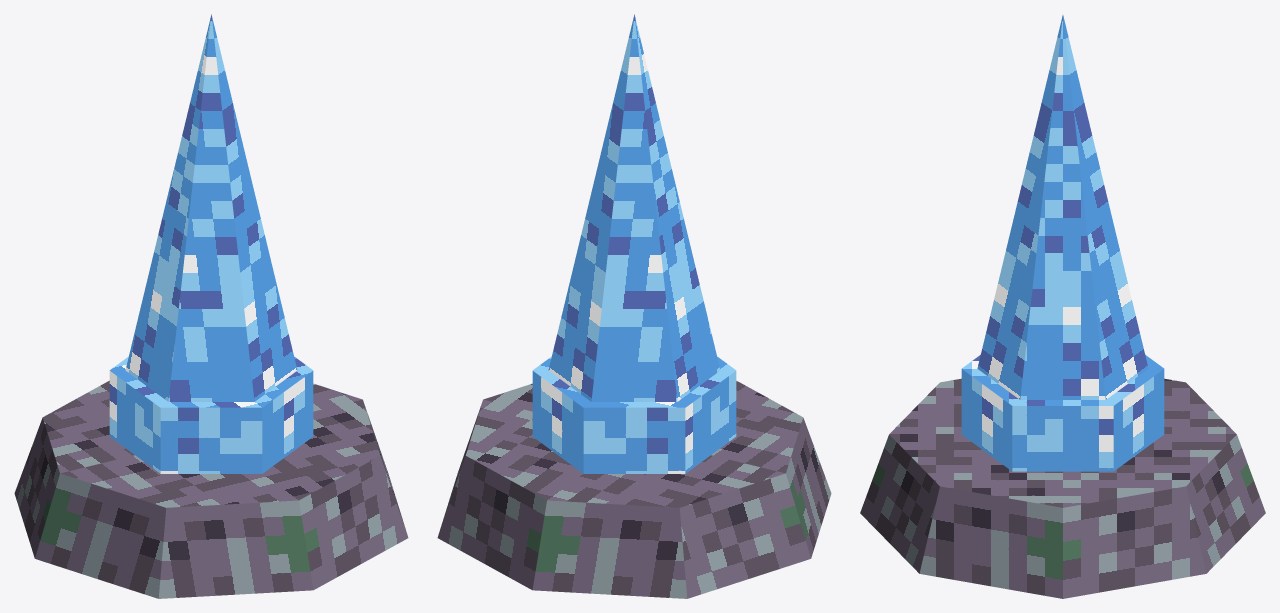
Rendered from r01_cristal_teletransporte.glb.
3 renders of one model, left to right at view 1: azimuth 30°, elevation 25°; view 2: azimuth 150°, elevation 25°; view 3: azimuth 270°, elevation 25°, orthographic.
Visible parts, largest first — view 1: r01_cristal_teletransporte; view 2: r01_cristal_teletransporte; view 3: r01_cristal_teletransporte.
Part boxes in pixels (x1,y1,x2,y2): r01_cristal_teletransporte: (14, 14, 408, 598); r01_cristal_teletransporte: (437, 14, 831, 598); r01_cristal_teletransporte: (860, 15, 1265, 598).
Bounding box in the file's own units: 1.4 × 1.9 × 1.4.
2 materials, 2 textured.
